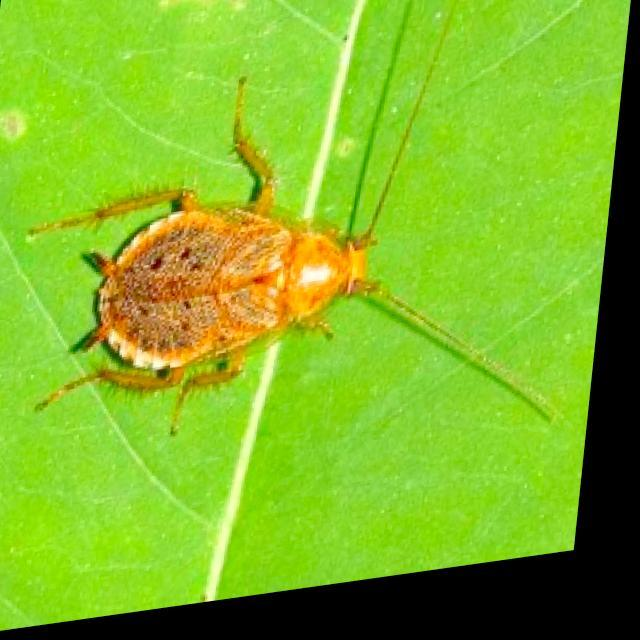cockroach: (22, 70, 557, 441)
